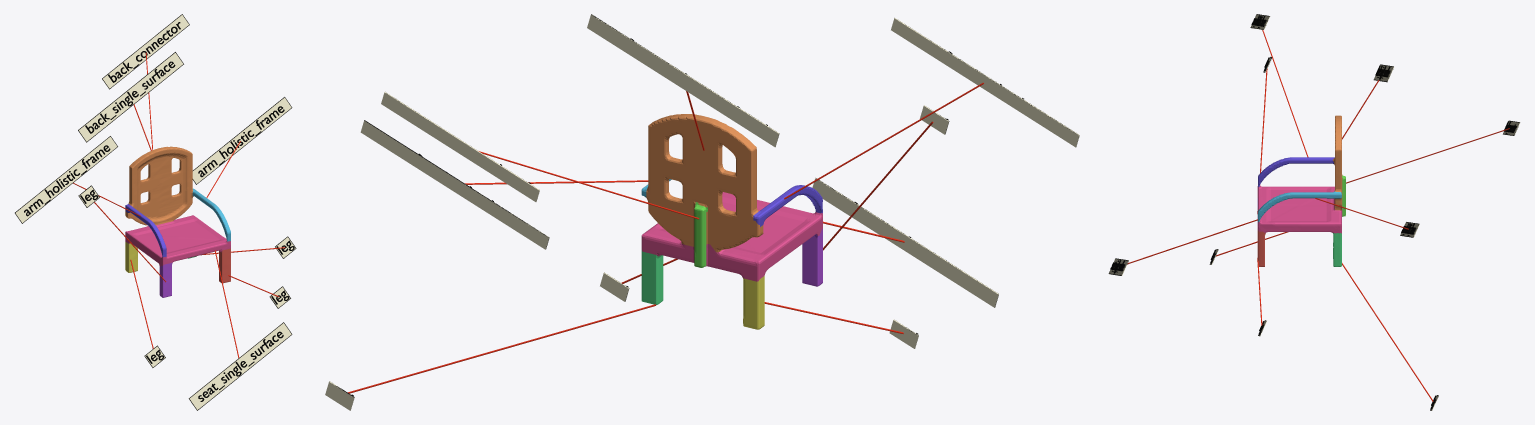
Rendered from 38844-left-O.obj.
3 renders of one model, left to right at view 1: azimuth 30°, elevation 25°; view 2: azimuth 150°, elevation 25°; view 3: azimuth 270°, elevation 25°, orthographic. The views are drawn at different scales.
Visible parts, largest first — view 1: 38844-P, label_back_single_surface_3_17, label_seat_single_surface_11_12, label_arm_holistic_frame_8_13, label_arm_holistic_frame_6_14, label_back_connector_4_16, label_leg_14_7, label_leg_17_10, label_leg_15_8, label_leg_16_9; view 2: 38844-P, label_back_single_surface_3_17, label_seat_single_surface_11_12, label_arm_holistic_frame_6_14, label_arm_holistic_frame_8_13, label_back_connector_4_16, leader_leg_15_8; view 3: 38844-P.
Boxes of the visible parts, left/top/right/bottom form: 38844-P: left=125, top=146, right=230, bottom=297; label_back_single_surface_3_17: left=78, top=52, right=183, bottom=142; label_seat_single_surface_11_12: left=188, top=322, right=292, bottom=410; label_arm_holistic_frame_8_13: left=15, top=136, right=117, bottom=223; label_arm_holistic_frame_6_14: left=192, top=97, right=292, bottom=184; label_back_connector_4_16: left=102, top=14, right=189, bottom=89; label_leg_14_7: left=144, top=345, right=165, bottom=367; label_leg_17_10: left=78, top=185, right=99, bottom=207; label_leg_15_8: left=275, top=236, right=296, bottom=258; label_leg_16_9: left=269, top=286, right=290, bottom=308; 38844-P: left=641, top=114, right=822, bottom=329; label_back_single_surface_3_17: left=587, top=14, right=779, bottom=147; label_seat_single_surface_11_12: left=812, top=178, right=998, bottom=307; label_arm_holistic_frame_6_14: left=360, top=120, right=549, bottom=249; label_arm_holistic_frame_8_13: left=891, top=18, right=1079, bottom=147; label_back_connector_4_16: left=381, top=92, right=539, bottom=201; leader_leg_15_8: left=348, top=304, right=656, bottom=393; 38844-P: left=1257, top=115, right=1345, bottom=266.
Size of the model in its own units: 4.96 by 3.28 by 4.42.
